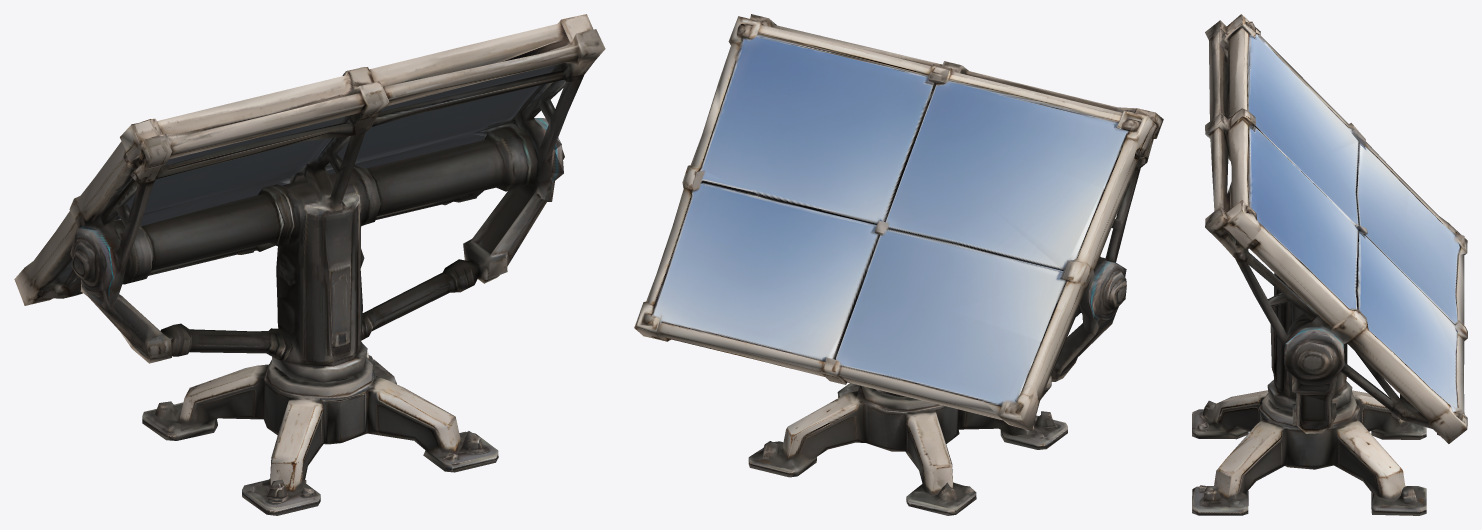
File: solar-mirror-intact.glb
3 views of the same model, side by side, from view 1: azimuth 30°, elevation 25°; view 2: azimuth 150°, elevation 25°; view 3: azimuth 270°, elevation 25° (orthographic). The views are drawn at different scales.
Visible parts, largest first — view 1: solar-mirror-intact; view 2: solar-mirror-intact; view 3: solar-mirror-intact.
Part boxes in pixels (bbox=[...]): solar-mirror-intact: bbox=[14, 14, 605, 515]; solar-mirror-intact: bbox=[634, 14, 1163, 515]; solar-mirror-intact: bbox=[1192, 14, 1467, 515].
Bounding box in the file's own units: 6 × 4.78 × 3.38.
2 materials, 2 textured.
